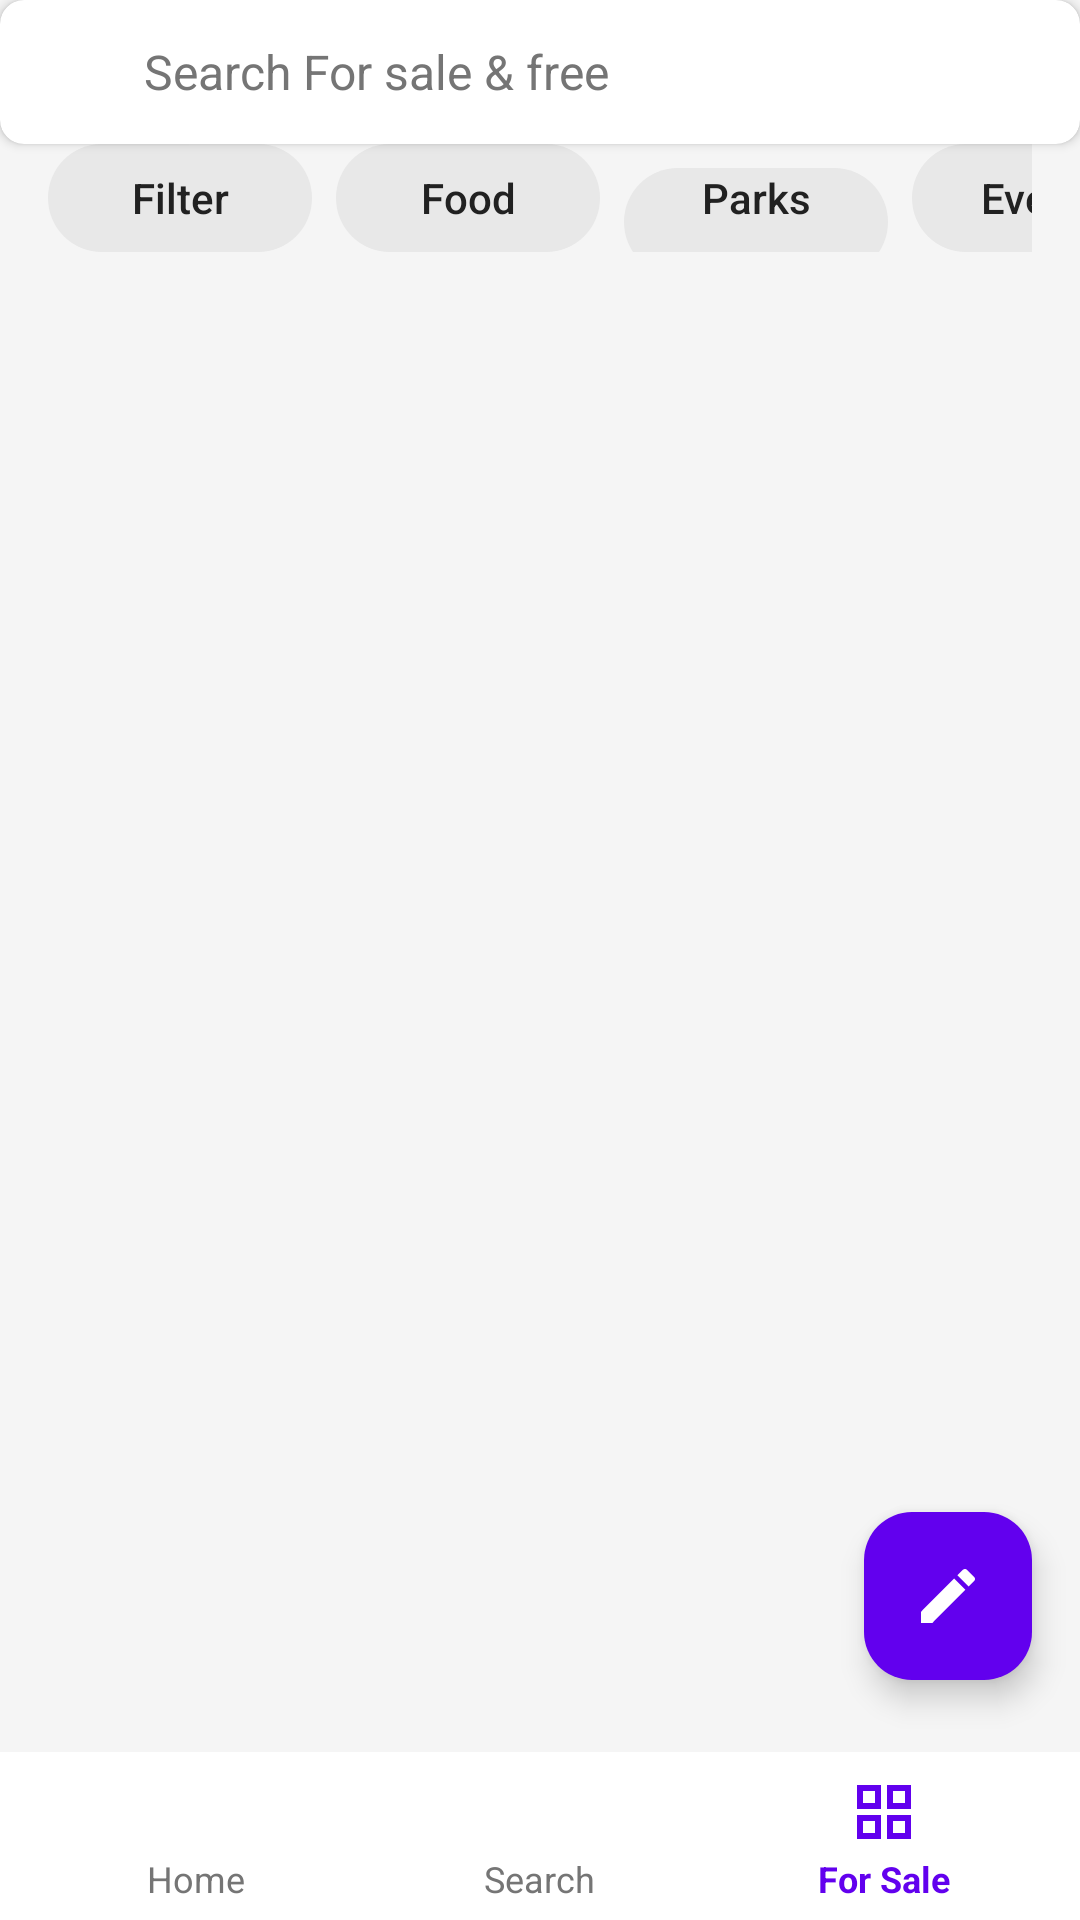

Screen size 1080px×1920px. Icon name, then its center in pixels as point (x, y):
Post: point (948, 1596)
